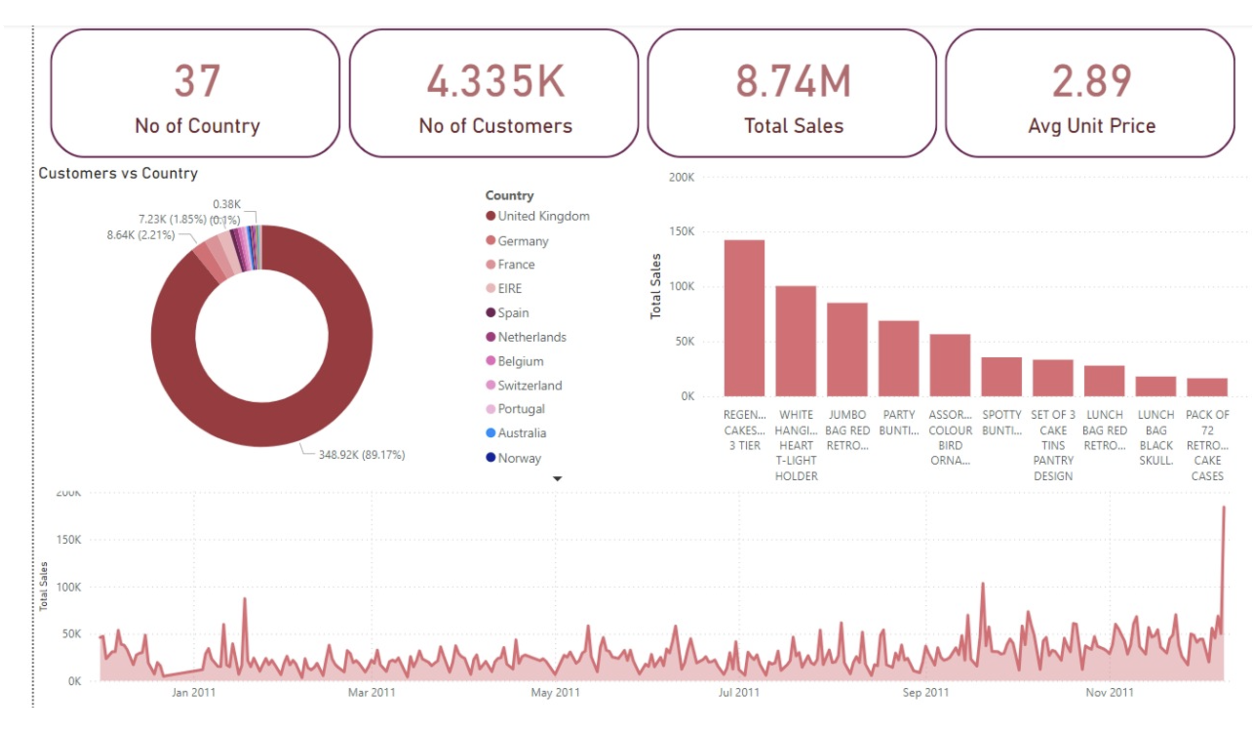

Layout of this report page (visuals, bound fields, positions):
{"tool":"powerbi","page":{"name":"Page 1","canvas":[1280,720],"ordinal":0},"visuals":[{"type":"cardVisual","fields":{"Data":["Count(cleaned_online_retail.Country)","Count(cleaned_online_retail.CustomerID)","Sum(cleaned_online_retail.TotalPrice)","Avg(cleaned_online_retail.UnitPrice)"]},"box":[12,0,1255,146.4],"z":0},{"type":"stackedAreaChart","fields":{"Category":["cleaned_online_retail.InvoiceDate"],"Y":["Sum(cleaned_online_retail.TotalPrice)"]},"box":[0,478.1,1280.4,242],"z":1},{"type":"donutChart","title":"Customers vs Country","fields":{"Y":["CountNonNull(cleaned_online_retail.CustomerID)"],"Category":["cleaned_online_retail.Country"]},"box":[0,146.4,629,343.6],"z":2},{"type":"columnChart","fields":{"Category":["cleaned_online_retail.Description"],"Y":["Sum(cleaned_online_retail.TotalPrice)"]},"box":[639.5,146.4,640.9,343.6],"z":3}]}

Visuals, with their boxes on the page's 1280x720 design canvas (x1, y1, x2, y2). These are canvas units, not pixel positions in the 1254x736 screenshot, which may show the page scaled, cropped or inside an application window:
cardVisual - Count(cleaned_online_retail.Country) x Count(cleaned_online_retail.CustomerID): l=12, t=0, r=1267, b=146
stackedAreaChart - cleaned_online_retail.InvoiceDate x Sum(cleaned_online_retail.TotalPrice): l=0, t=478, r=1280, b=720
"Customers vs Country" donutChart: l=0, t=146, r=629, b=490
columnChart - cleaned_online_retail.Description x Sum(cleaned_online_retail.TotalPrice): l=640, t=146, r=1280, b=490
